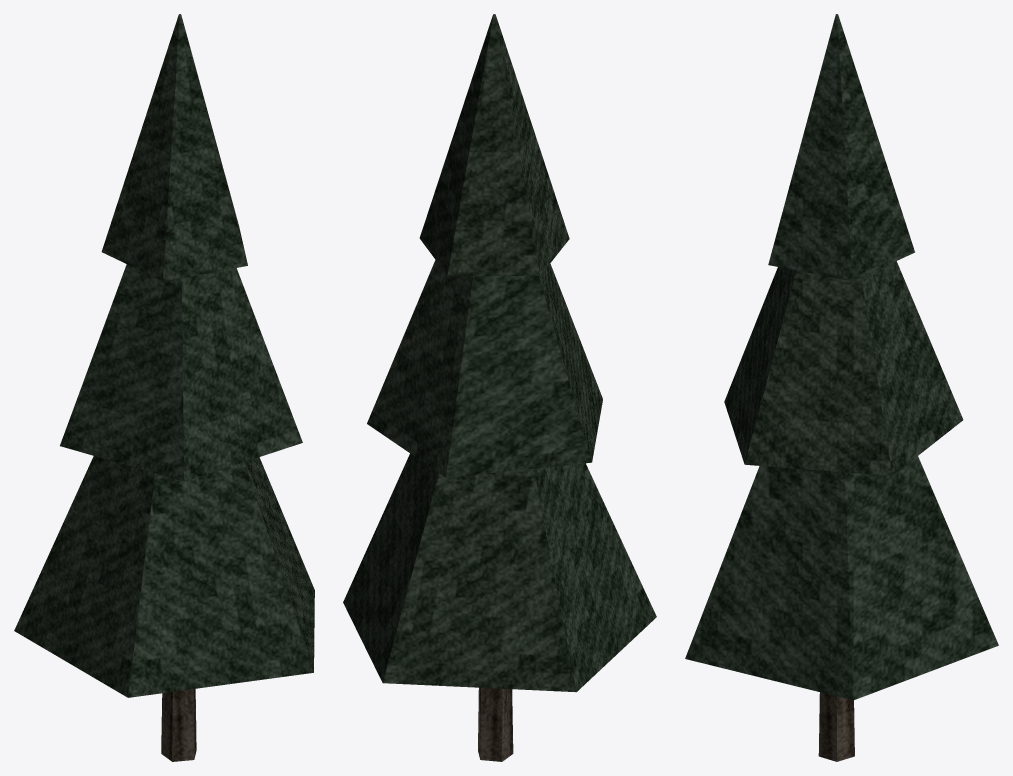
Rendered from ENV_F_Spruce.fbx.
3 views of the same model, side by side, from view 1: azimuth 30°, elevation 25°; view 2: azimuth 150°, elevation 25°; view 3: azimuth 270°, elevation 25° (orthographic).
Visible parts, largest first — view 1: PH03_ENV_F_Spruce; view 2: PH03_ENV_F_Spruce; view 3: PH03_ENV_F_Spruce.
Boxes of the visible parts, box(x1,y1,x2,y2) form: PH03_ENV_F_Spruce: box(14, 14, 314, 761); PH03_ENV_F_Spruce: box(343, 14, 656, 761); PH03_ENV_F_Spruce: box(685, 14, 998, 761).
Size of the model in its own units: 227 by 600 by 231.
Materials: 2 (2 with a texture image).
